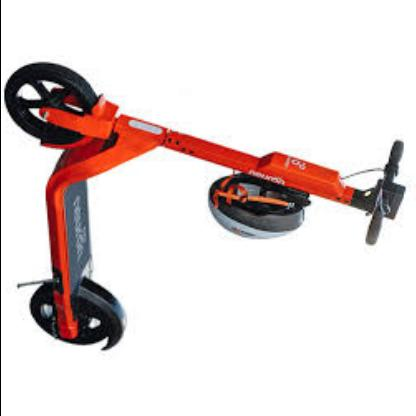bike: (7, 60, 411, 353)
